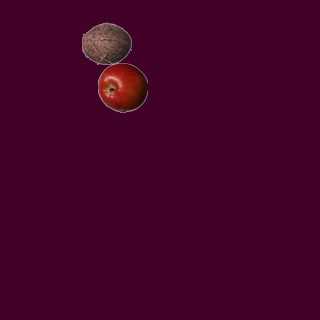Apple Braeburn: (97, 62, 147, 112)
Cocos: (81, 18, 131, 68)
